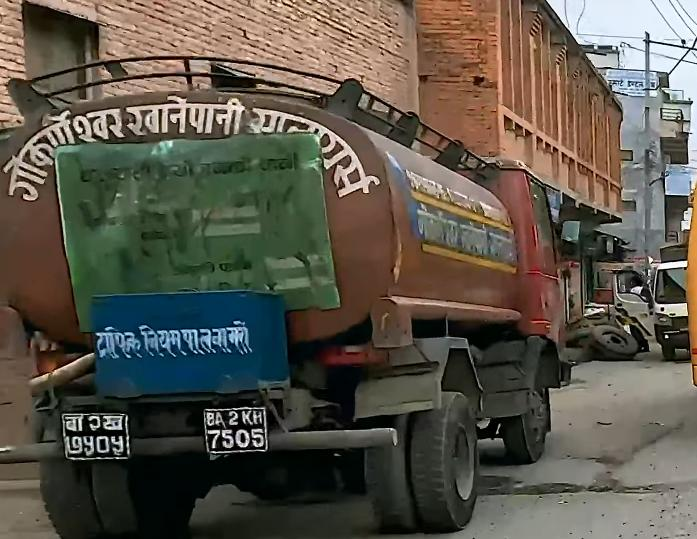mini_truck: (2, 54, 574, 539)
transport_vehicle: (642, 229, 697, 363)
